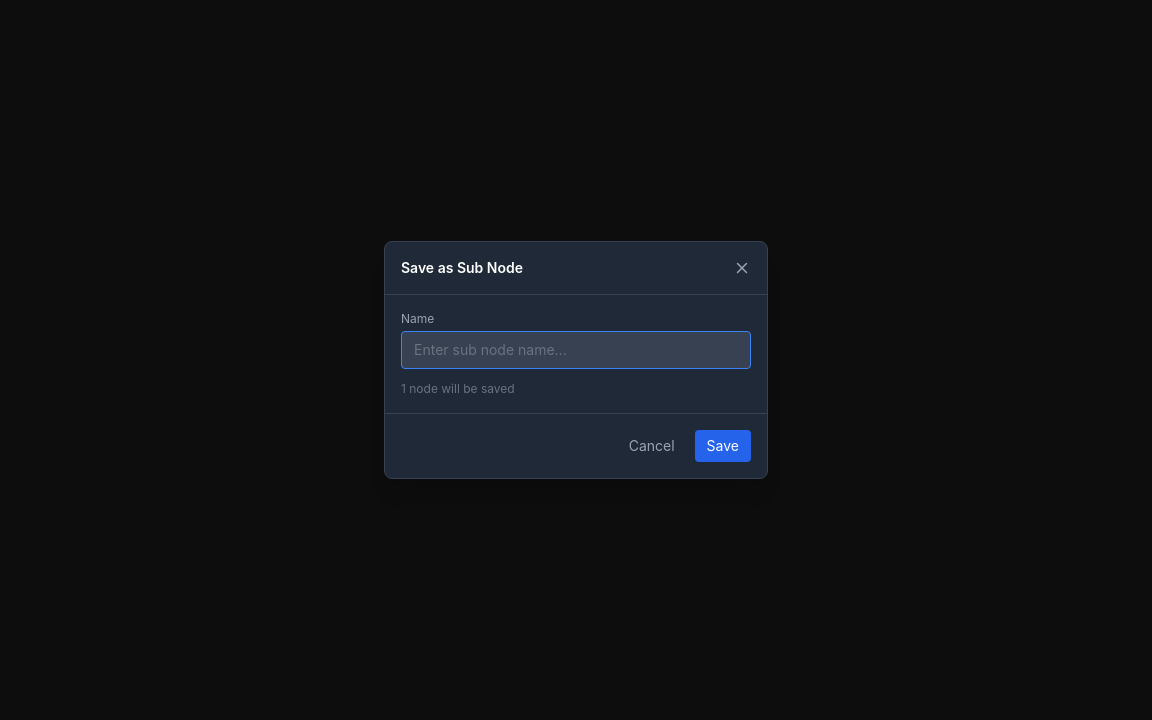
Test: SubNodeNameDialog › should show error when name is already taken
The image size is (1152, 720).
Type "Existing Name" into the field with placeholder "Enter sub node name..." at (576, 350), box x1=401 y1=331 x2=751 y2=369
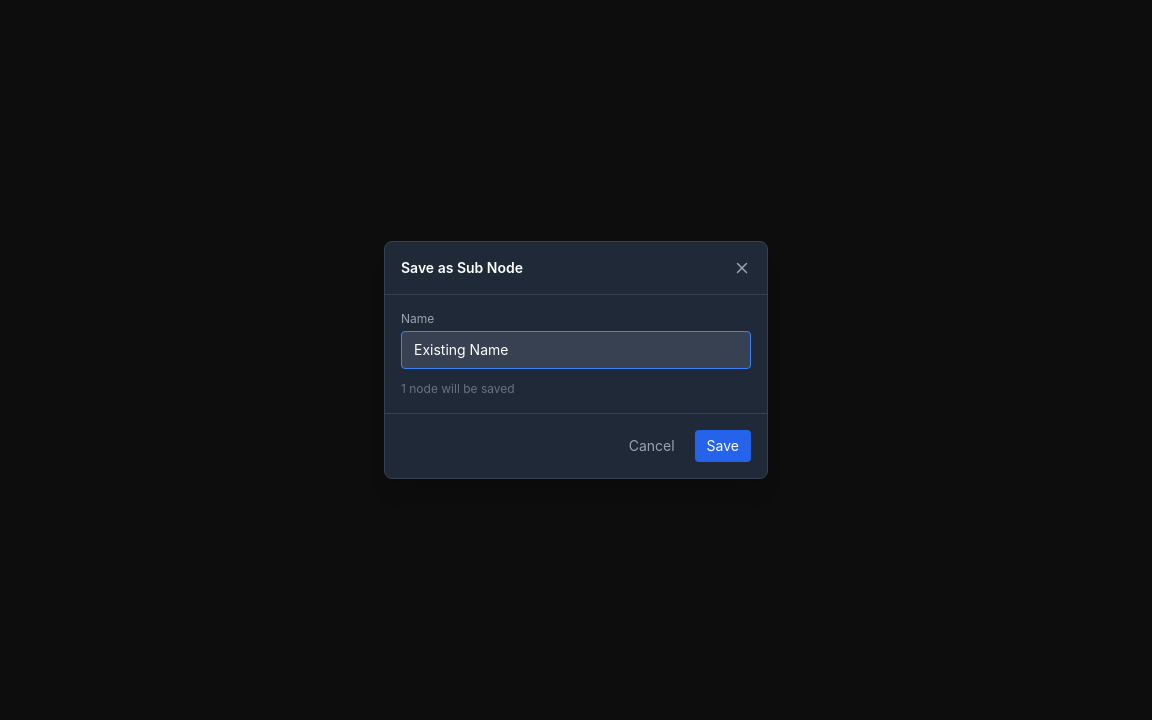
Click the button "Save" at (723, 446), box x1=695 y1=430 x2=751 y2=462
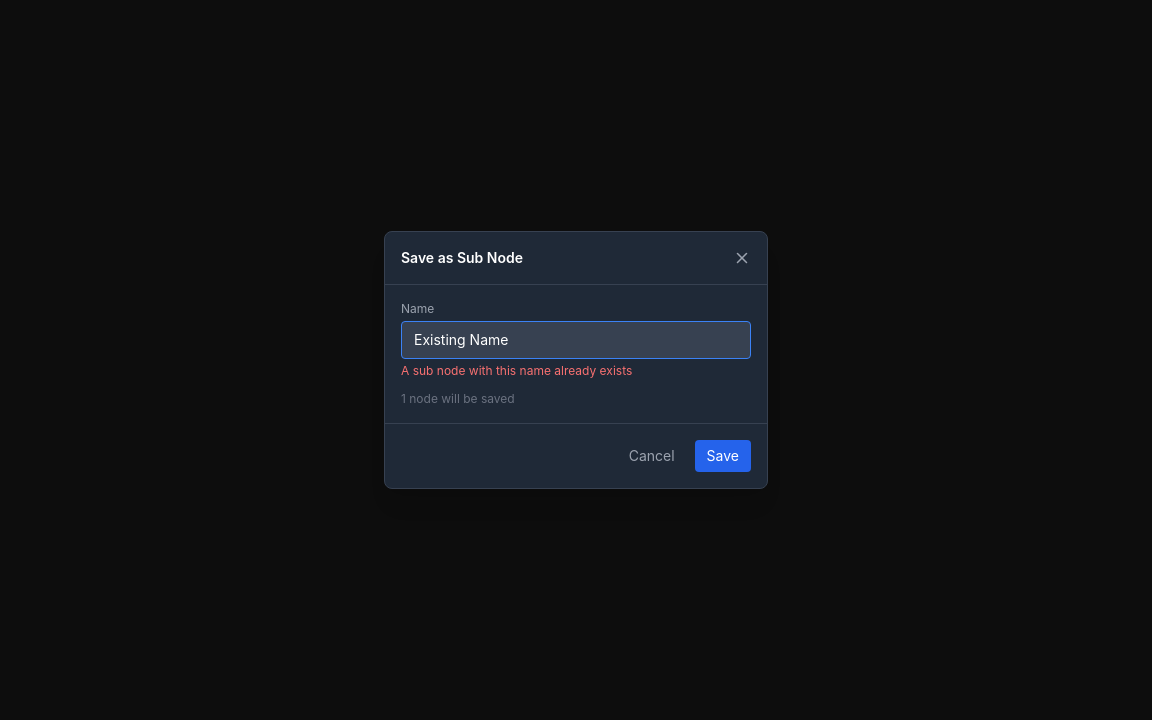
Now the text "A sub node with this name already exists" is shown, box x1=401 y1=363 x2=632 y2=378
